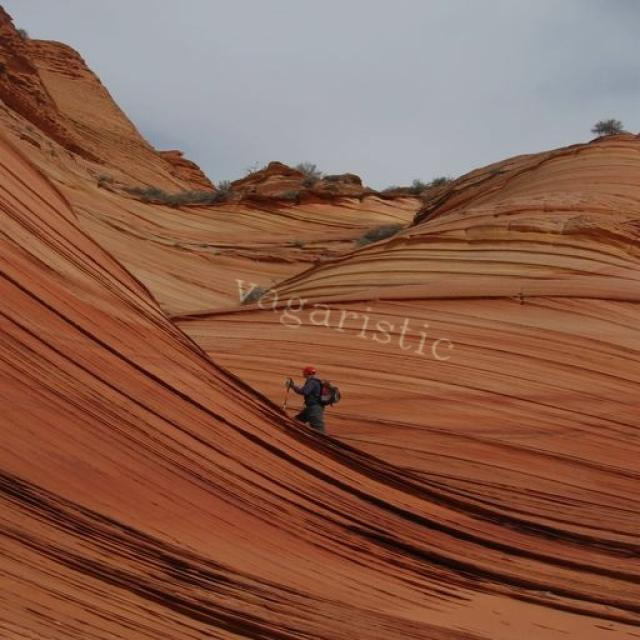watermark: (218, 266, 481, 370)
